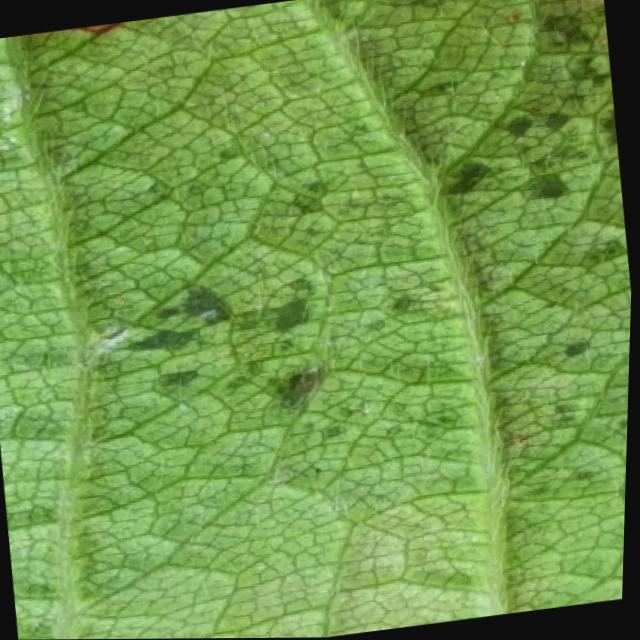Angular Leafspot: (3, 0, 633, 554)
